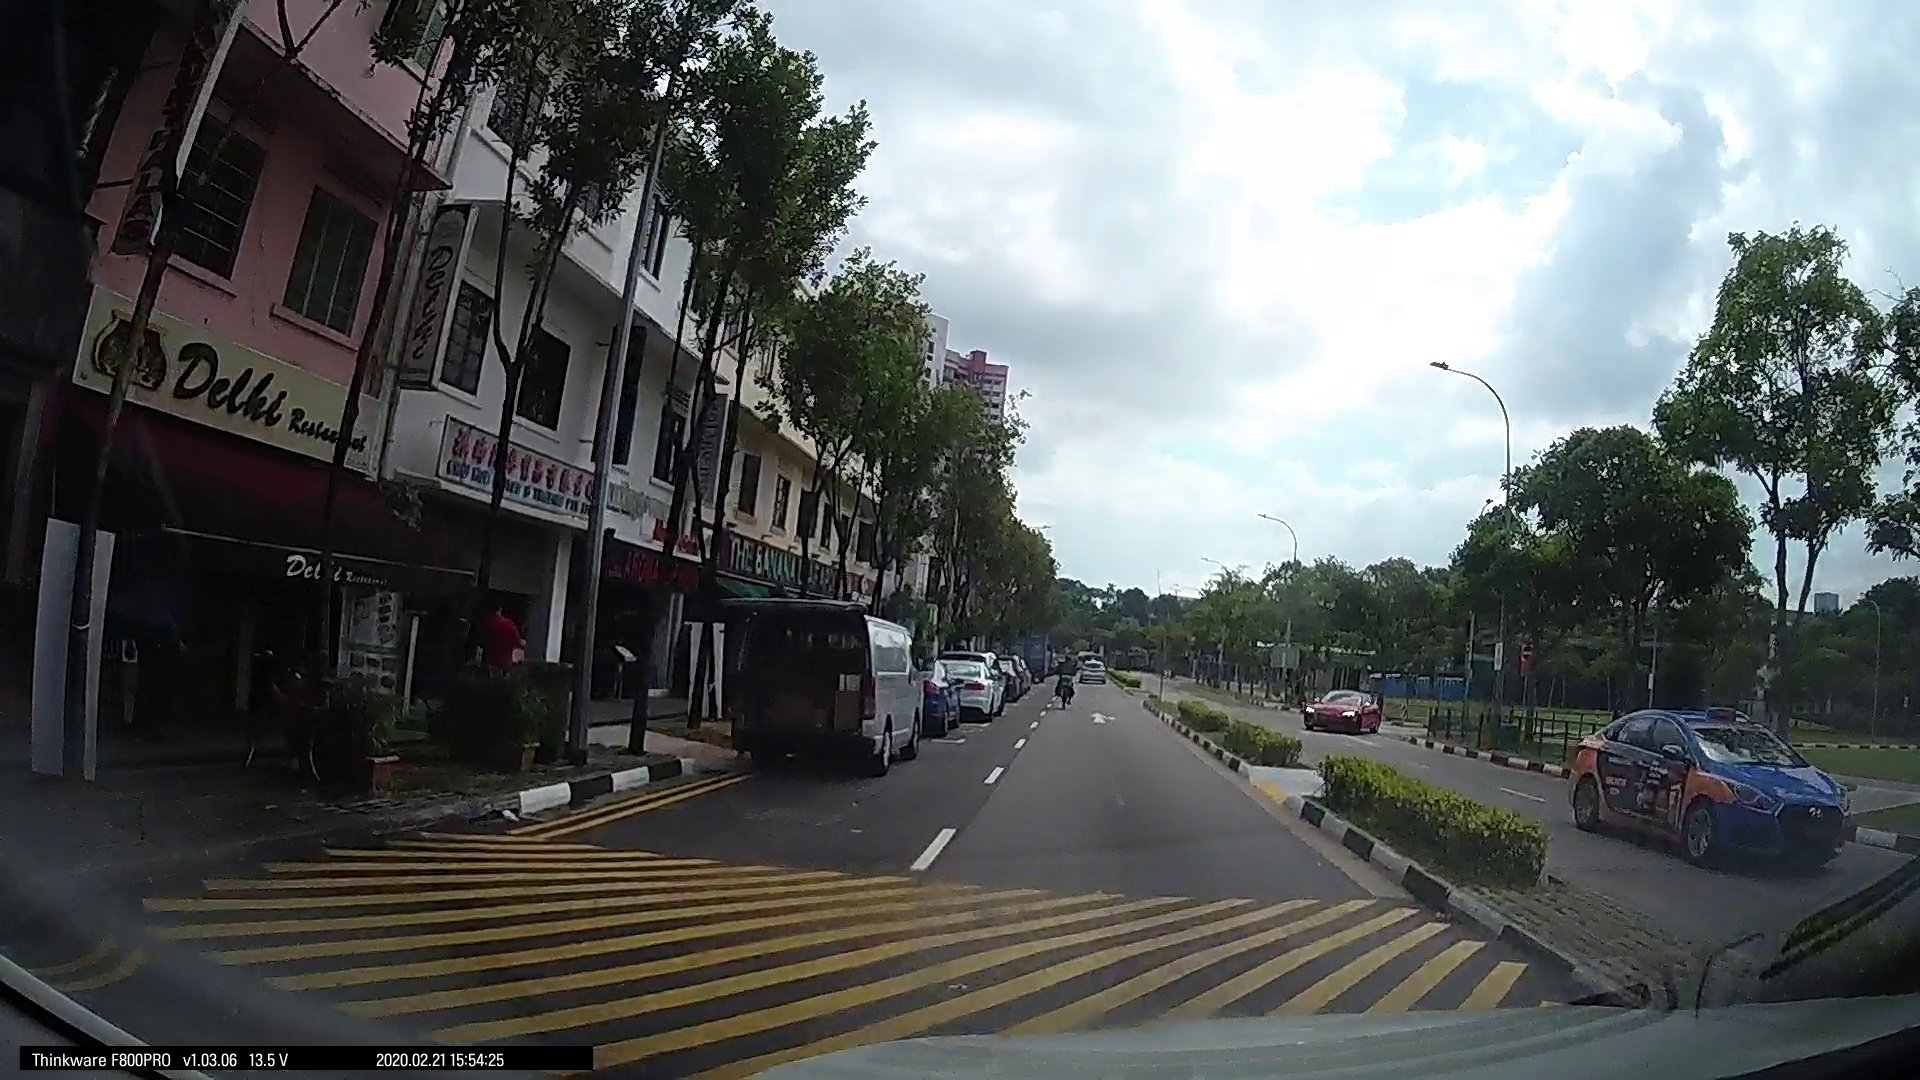Light Vehicle: (1567, 698, 1859, 873), (725, 595, 922, 778), (924, 649, 1004, 723), (1299, 676, 1385, 740)
